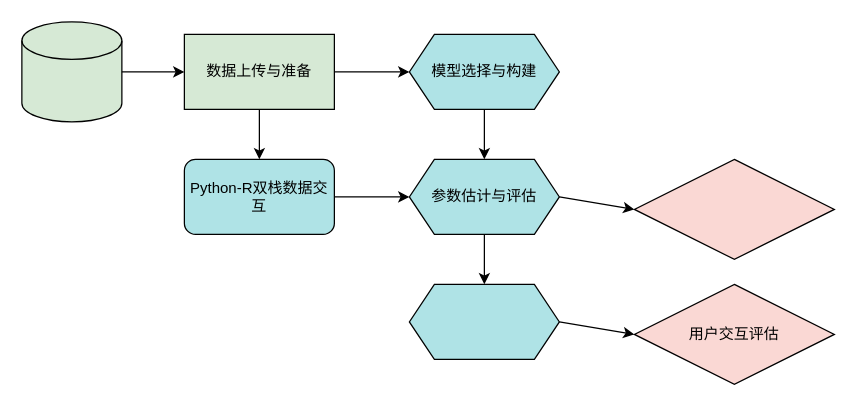
Image size: 856x406. Some labels were removed from this diagram. The centre of each missing label's shape, as x and y in pixels:
剂量优化与推荐: point 733,208
模型诊断: point 483,321
药动学数据集: point 71,71
